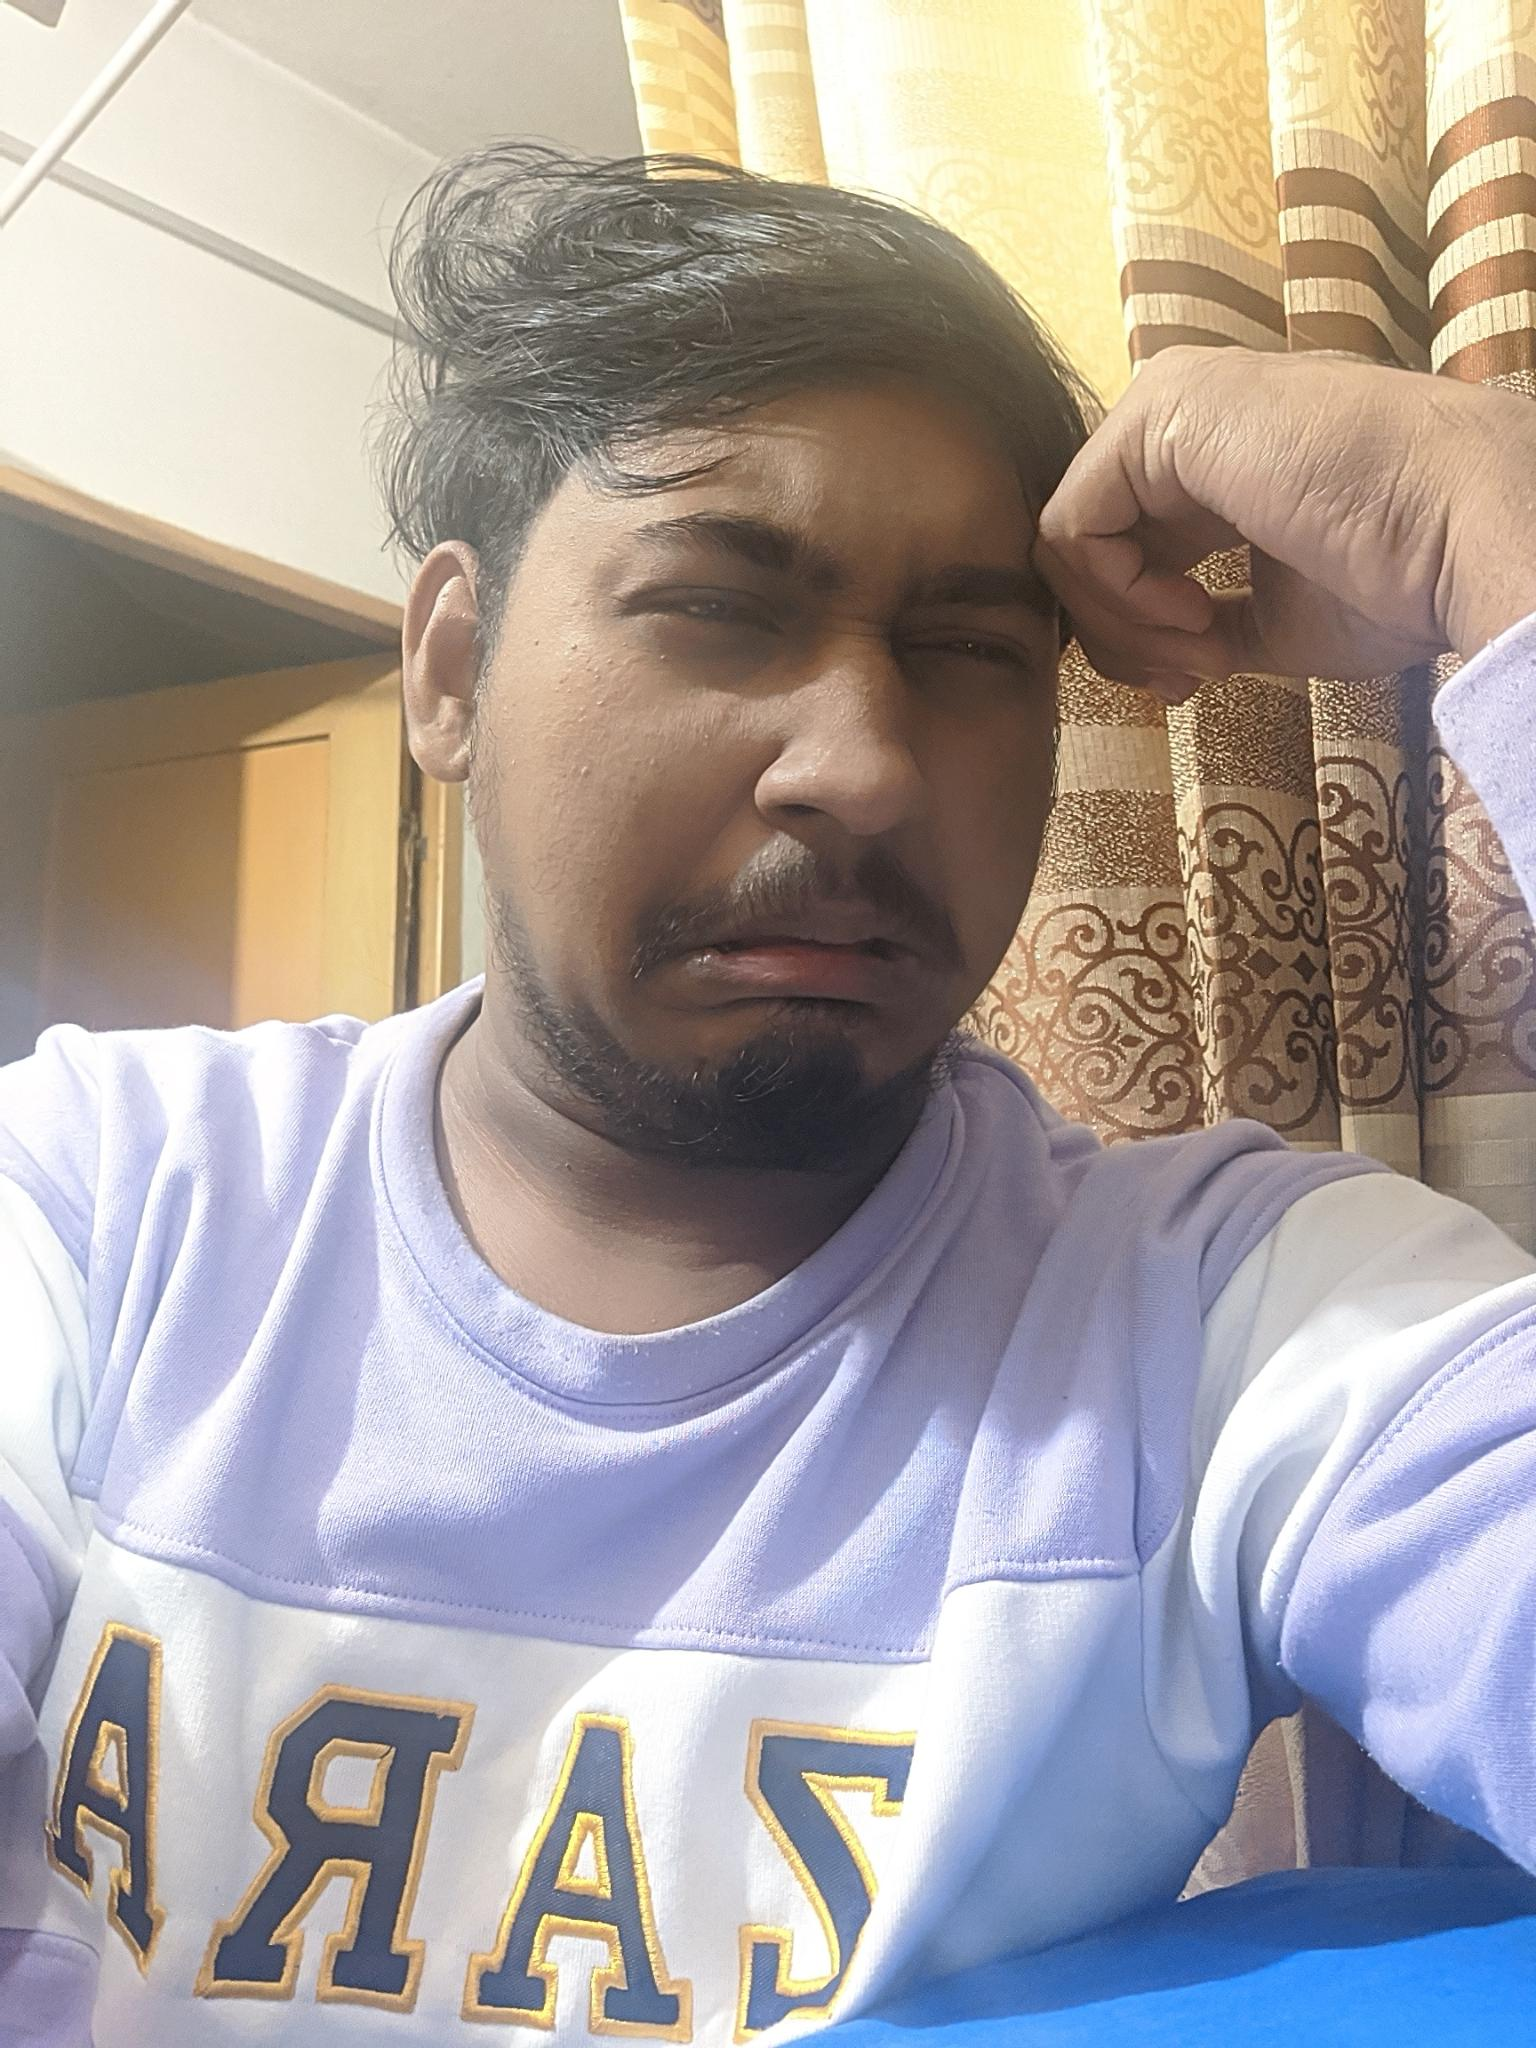Disgust: (561, 455, 1094, 1142)
